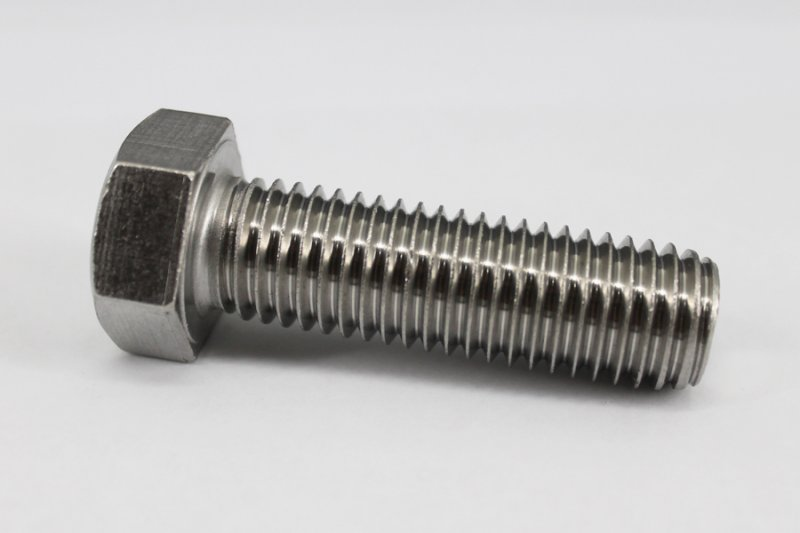screw: (90, 106, 723, 395)
